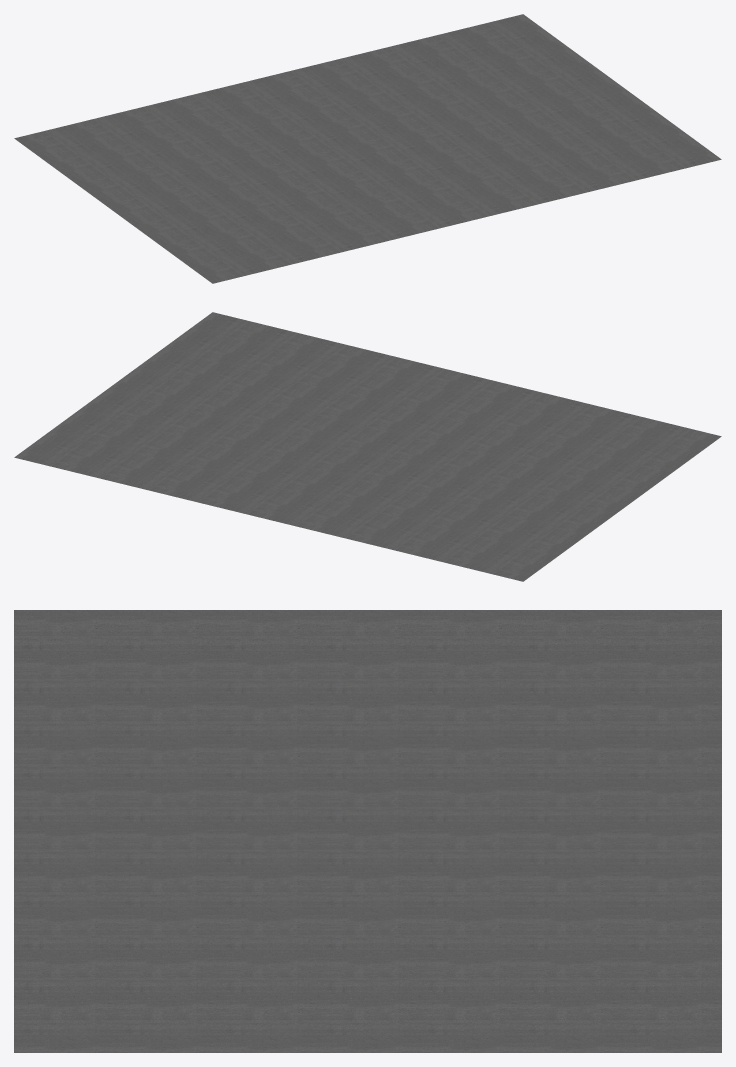
File: warehouse_roof_asphalt_plain_big_0_lev1.glb
3 renders of one model, top to bottom at view 1: azimuth 30°, elevation 25°; view 2: azimuth 150°, elevation 25°; view 3: azimuth 270°, elevation 25°, orthographic. The views are drawn at different scales.
Visible parts, largest first — view 1: warehouse_roof_asphalt_plain_big_0_lev1; view 2: warehouse_roof_asphalt_plain_big_0_lev1; view 3: warehouse_roof_asphalt_plain_big_0_lev1.
Boxes of the visible parts, bbox=[...] form: warehouse_roof_asphalt_plain_big_0_lev1: bbox=[14, 14, 721, 283]; warehouse_roof_asphalt_plain_big_0_lev1: bbox=[14, 312, 721, 581]; warehouse_roof_asphalt_plain_big_0_lev1: bbox=[14, 610, 721, 1052].
Bounding box in the file's own units: 27.75 × 1.11e-05 × 18.75.
1 material, 1 textured.
